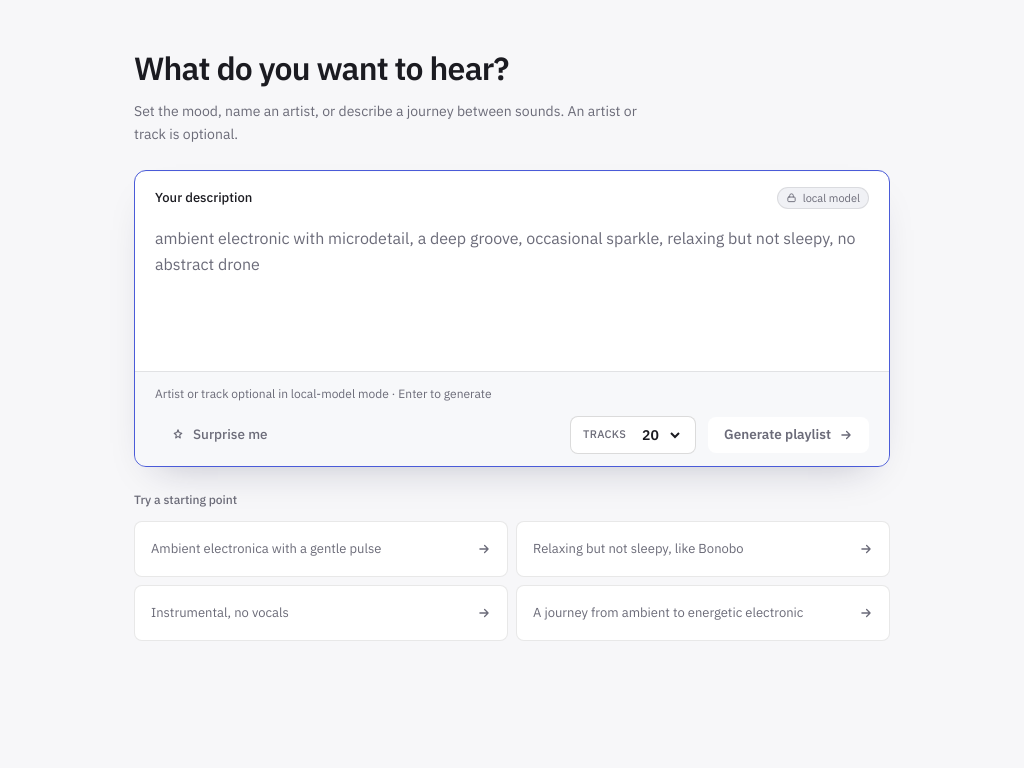
Scenario: pauses for spelling confirmation and accepts the catalog artist in the original generation context
Replace the text in the text box labelled "Your description" with "Relaxing electronic like christrian loeffler, 20 tracks" at (512, 290), box [135,209,889,371]
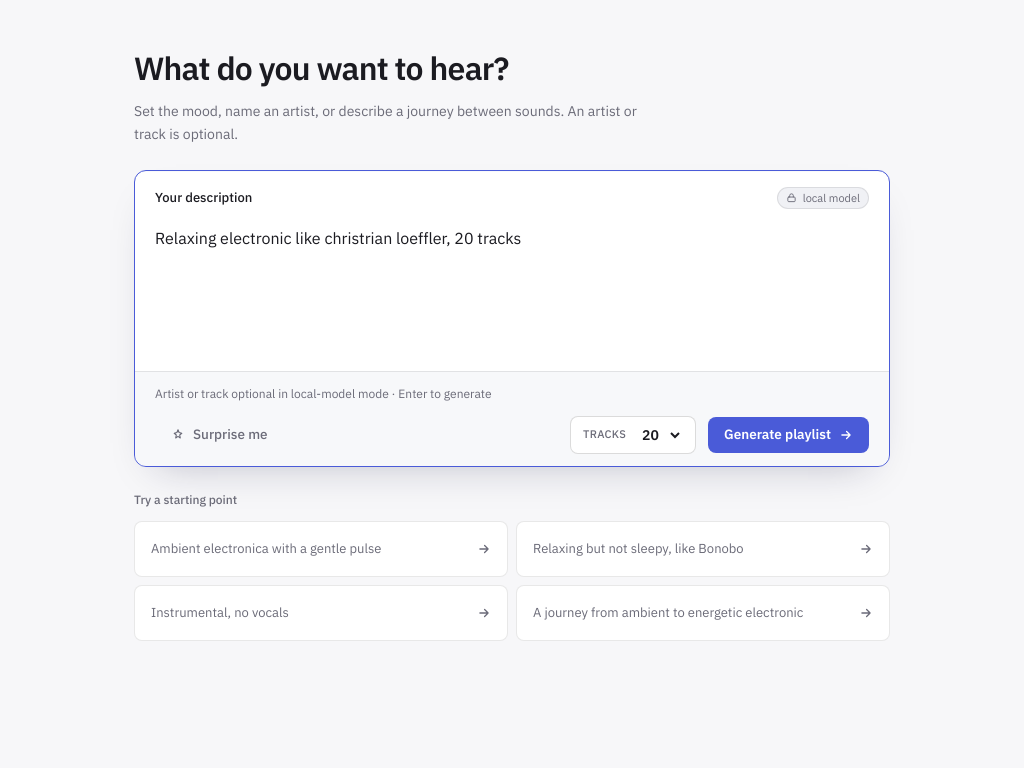
Click the button "Generate playlist" at (789, 434), box [708,416,869,452]
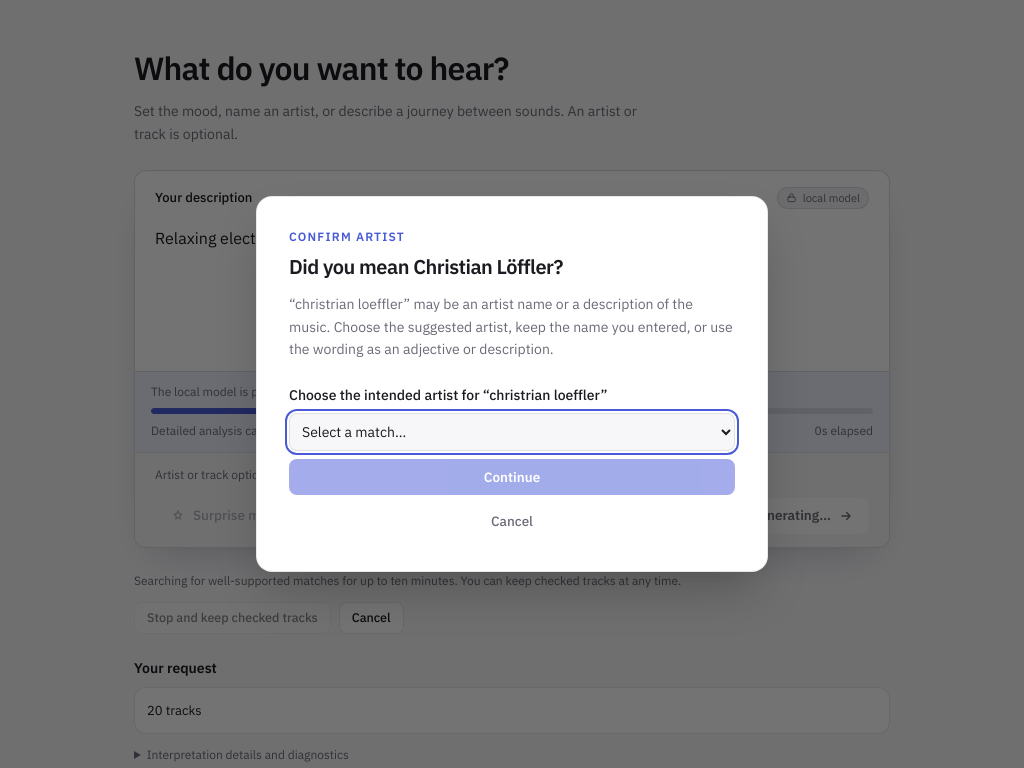
Expected: the button "Continue" is disabled, [289,459,735,495]
Select "Christian Löffler" in the dropdown at (512, 432), box [289,413,735,451]
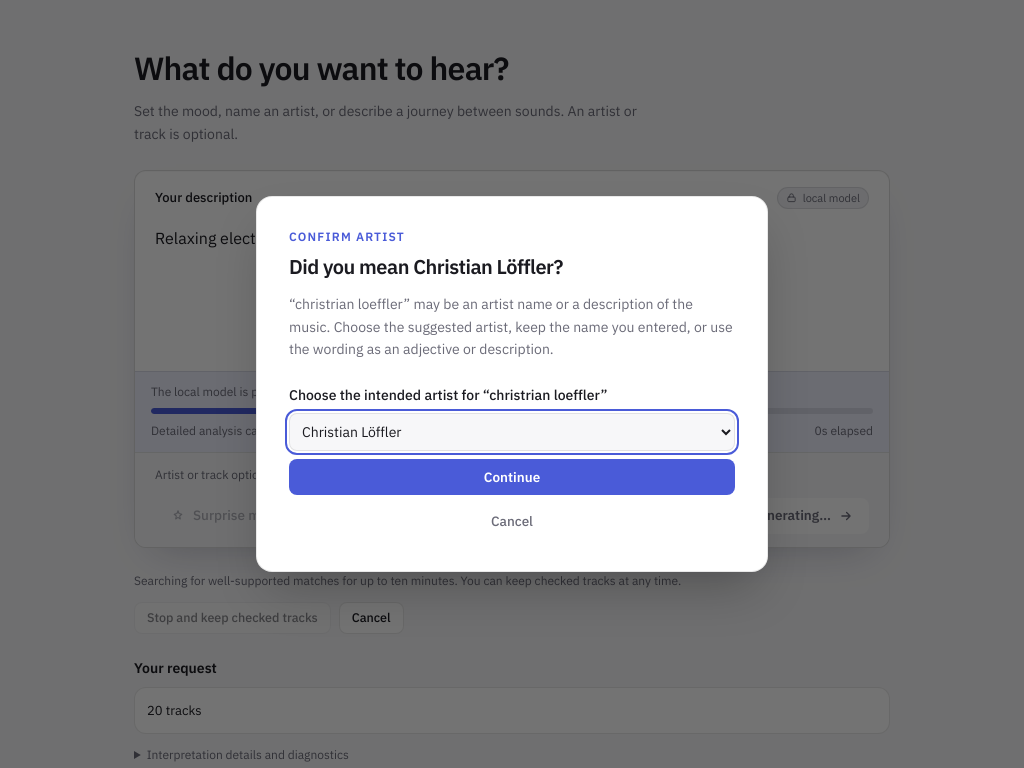
Click the button "Continue" at (512, 477), box [289,459,735,495]
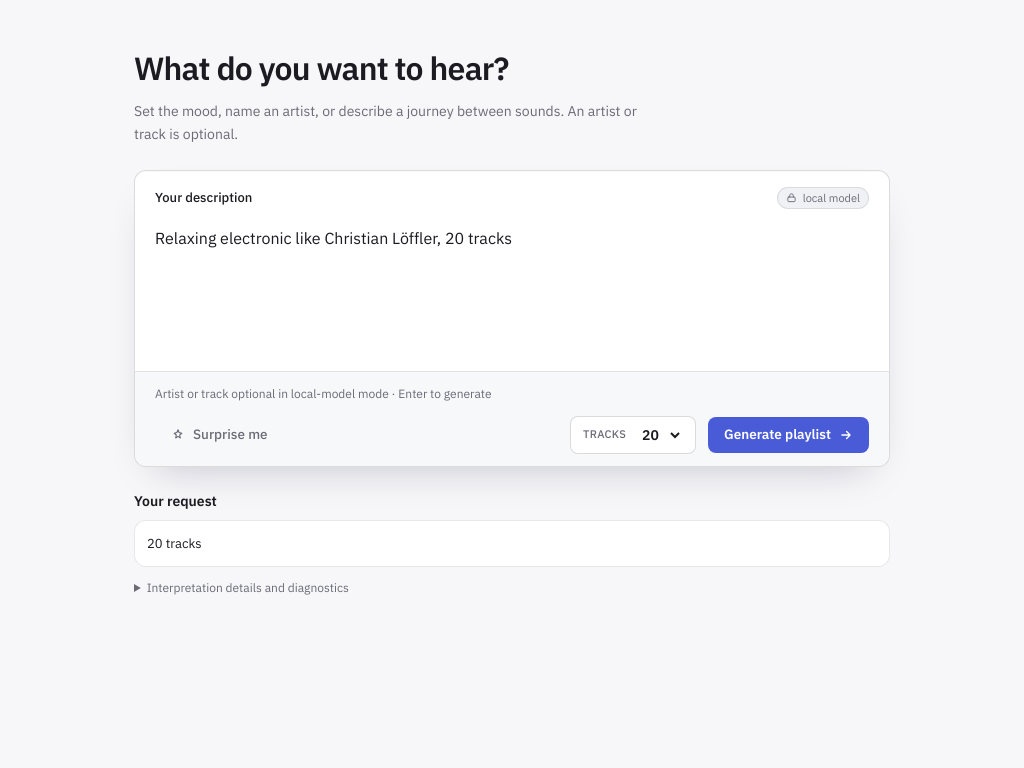
Expected: the dialog is gone
Expected: the text box labelled "Your description" holds "Relaxing electronic like Christian Löffler, 20 tracks", [135,209,889,371]
